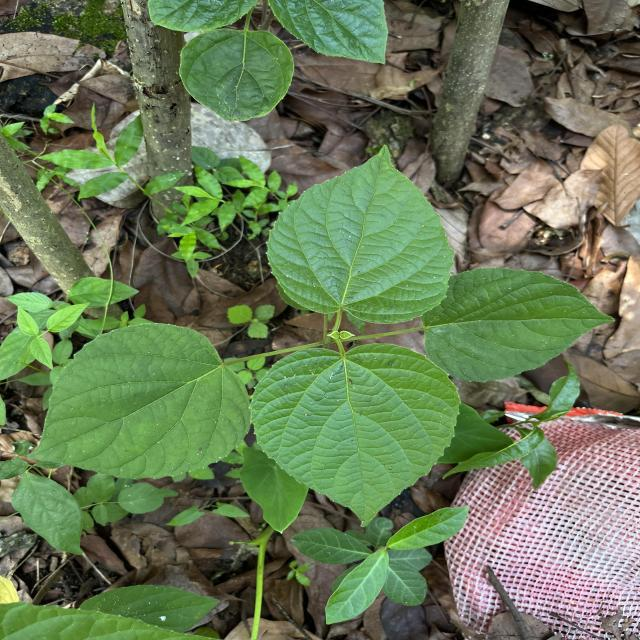Clerodendrum infortunatum: (247, 341, 462, 528), (25, 321, 254, 481), (264, 143, 458, 326), (422, 265, 617, 385)
